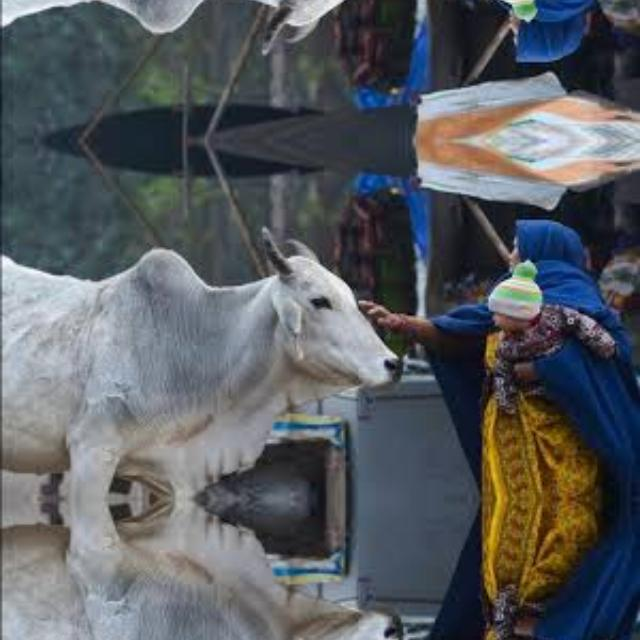person: (0, 214, 400, 498), (0, 498, 400, 640), (0, 0, 400, 66)
